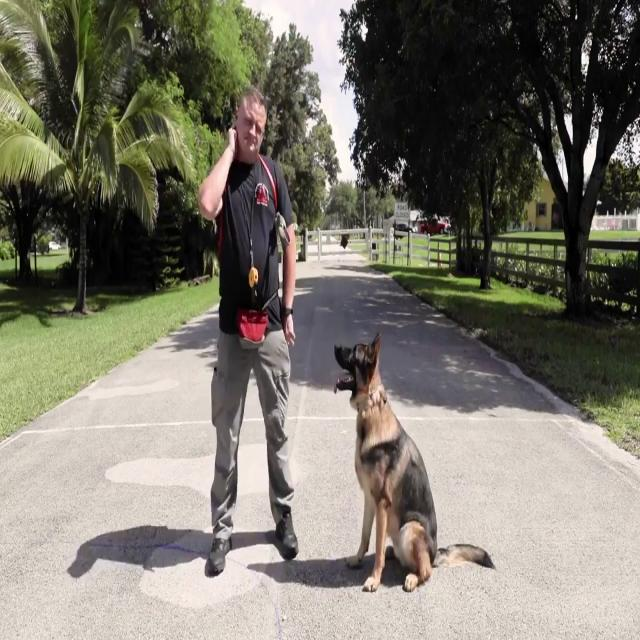Unleashed_Dog: (256, 331, 498, 592)
